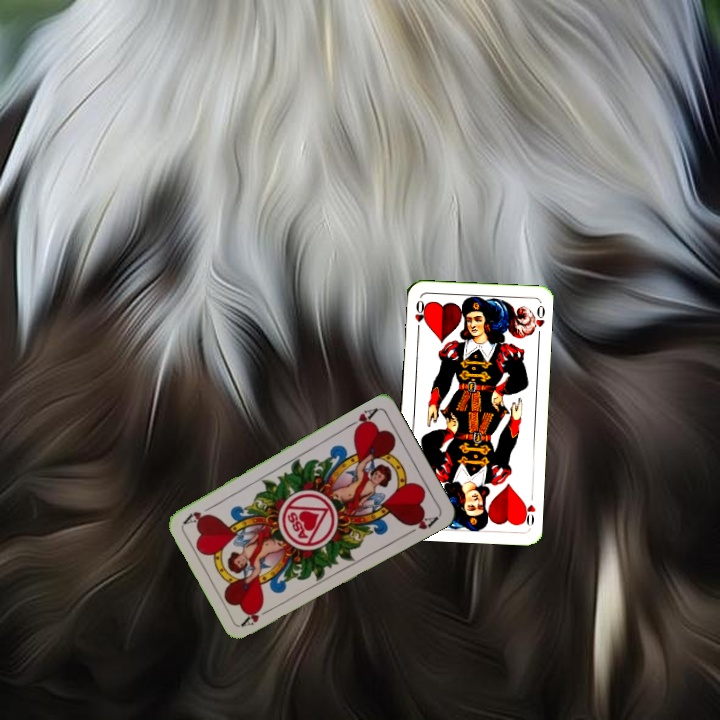HA: (344, 403, 381, 434), (238, 602, 276, 629)
HO: (518, 489, 538, 528), (410, 296, 427, 335)
